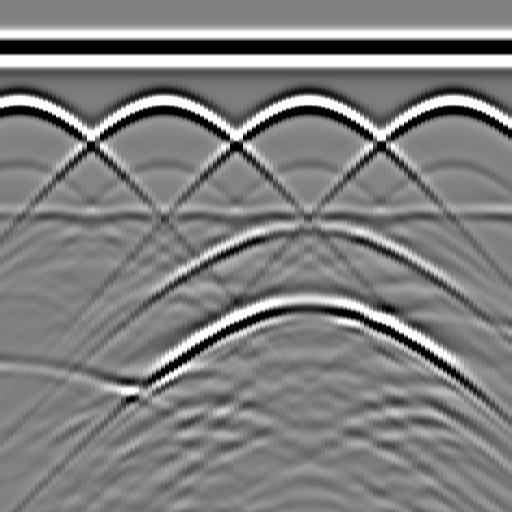grout_surface: (1, 200, 512, 230)
rebar: (142, 84, 182, 124), (286, 84, 326, 124), (430, 84, 470, 124)
rock_surface: (1, 314, 511, 389)
water_void: (275, 204, 335, 244)
